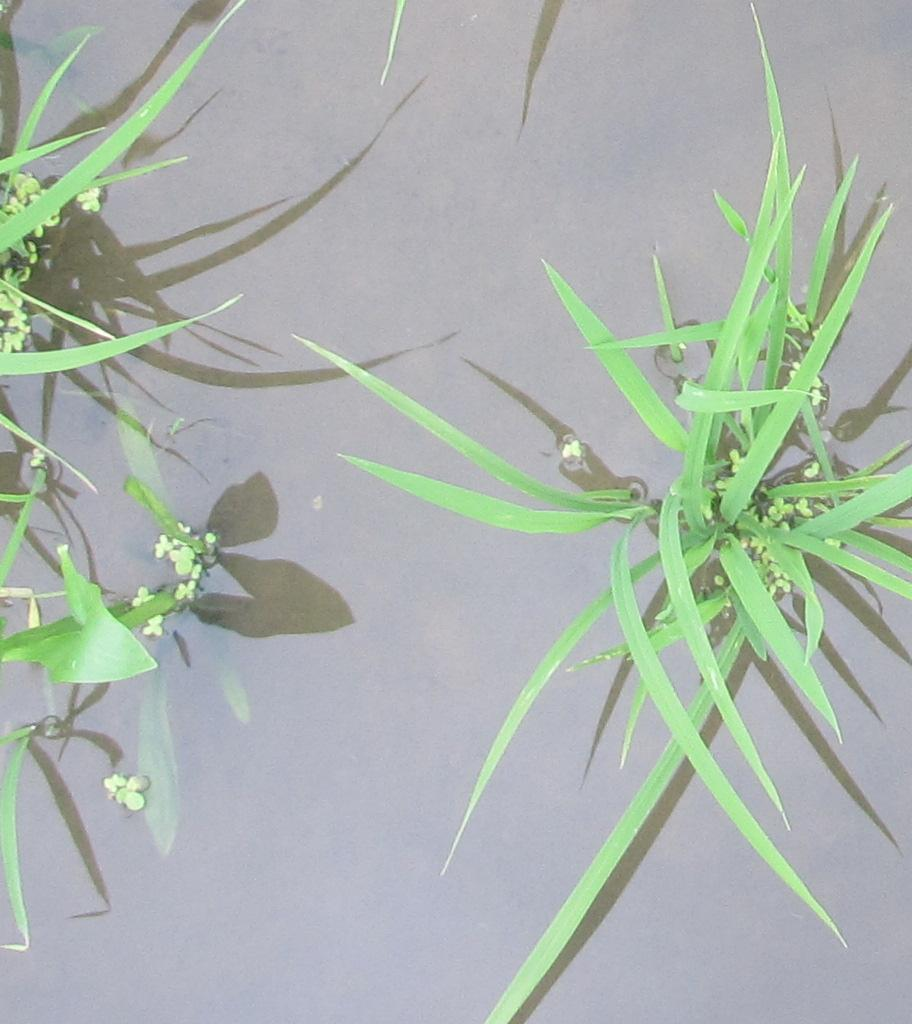Weed: (16, 422, 219, 702)
